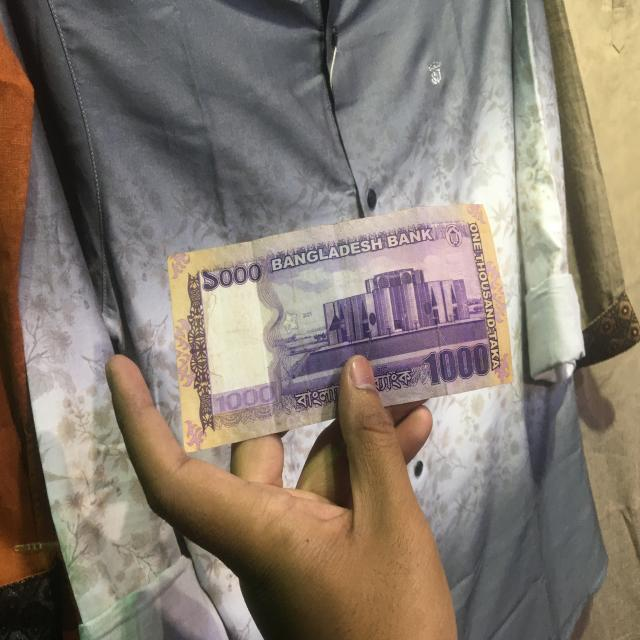Taka: (160, 200, 522, 438)
